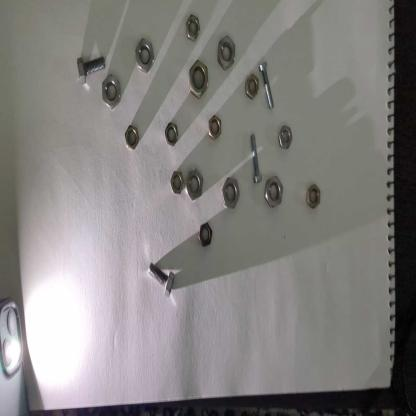Bolts: (146, 259, 178, 302), (75, 53, 110, 88), (256, 60, 275, 115), (249, 130, 262, 190)
NUTS: (132, 33, 156, 78), (188, 57, 210, 106), (98, 73, 122, 113), (184, 166, 205, 206), (265, 174, 285, 212), (220, 175, 242, 209), (217, 34, 236, 72), (205, 115, 224, 145), (304, 183, 323, 213), (123, 124, 140, 157), (277, 124, 297, 151), (244, 71, 260, 103), (186, 14, 202, 45), (164, 122, 182, 149), (170, 170, 184, 201), (198, 221, 212, 250)
